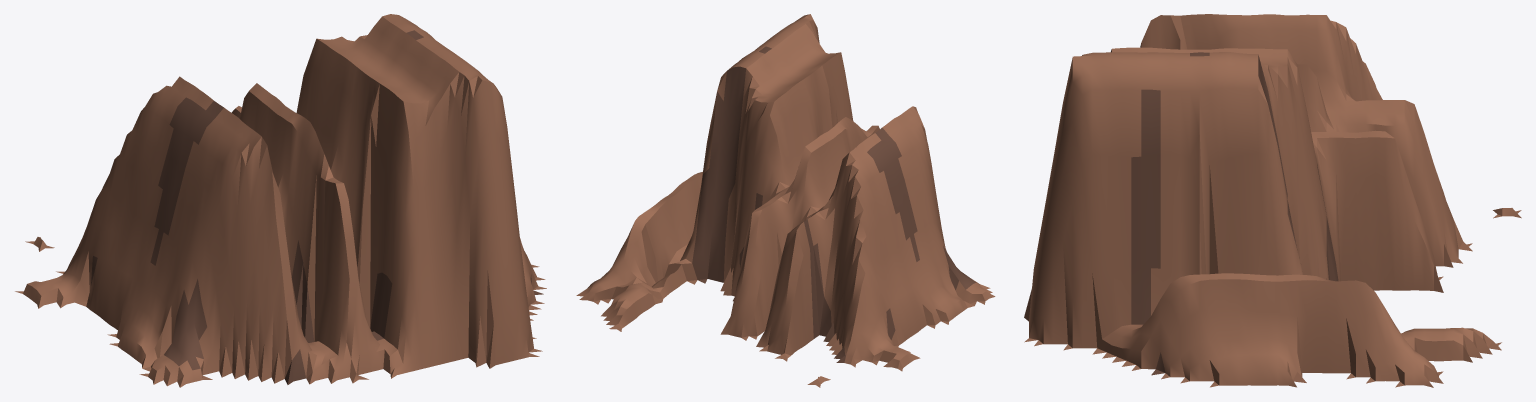
The model's file is fulgoran-ruin-huge.glb.
3 renders of one model, left to right at view 1: azimuth 30°, elevation 25°; view 2: azimuth 150°, elevation 25°; view 3: azimuth 270°, elevation 25°, orthographic. The views are drawn at different scales.
Visible parts, largest first — view 1: body; view 2: body; view 3: body.
Part boxes in pixels (box(x1,y1,x2,y2)): body: box(15, 14, 546, 387); body: box(576, 14, 995, 387); body: box(1024, 14, 1521, 387).
Bounding box in the file's own units: 6.26 × 3.82 × 6.38.
